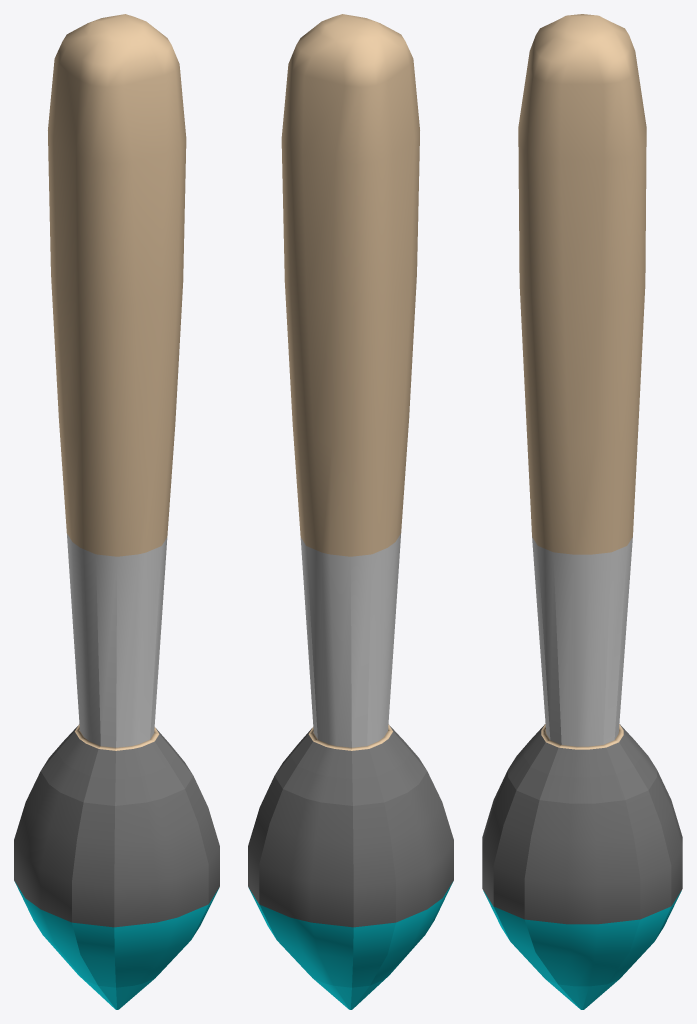
The model's file is brushLarge.fbx.
The picture shows the model from 3 angles, left to right: view 1: azimuth 30°, elevation 25°; view 2: azimuth 150°, elevation 25°; view 3: azimuth 270°, elevation 25°; orthographic projection.
Parts seen in each view (by area): view 1: pCube3; view 2: pCube3; view 3: pCube3.
Boxes of the visible parts, left/top/right/bottom form: pCube3: left=14, top=14, right=219, bottom=1009; pCube3: left=248, top=14, right=453, bottom=1009; pCube3: left=482, top=14, right=682, bottom=1009.
Size of the model in its own units: 1.77 by 9.93 by 1.83.
